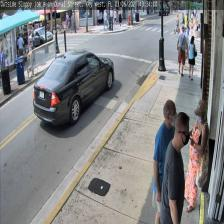person: (160, 111, 190, 224), (152, 99, 178, 224), (181, 98, 208, 212)
